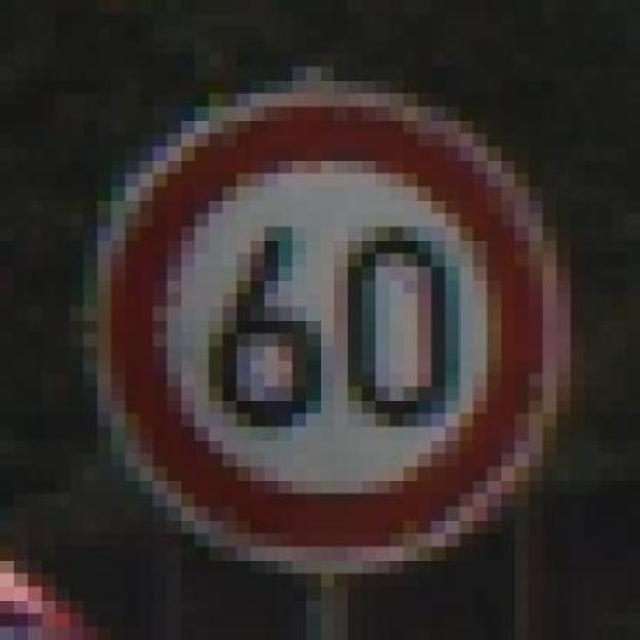forb_speed_over_60: (108, 91, 545, 562)
